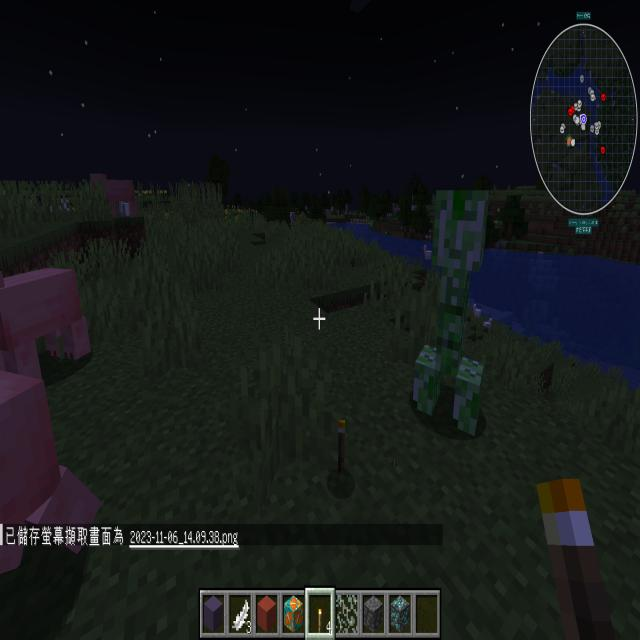Creeper: (406, 164, 505, 456)
chicken: (420, 242, 434, 270), (471, 300, 484, 326), (482, 314, 494, 341)
pig: (0, 357, 105, 582), (0, 249, 115, 396)
